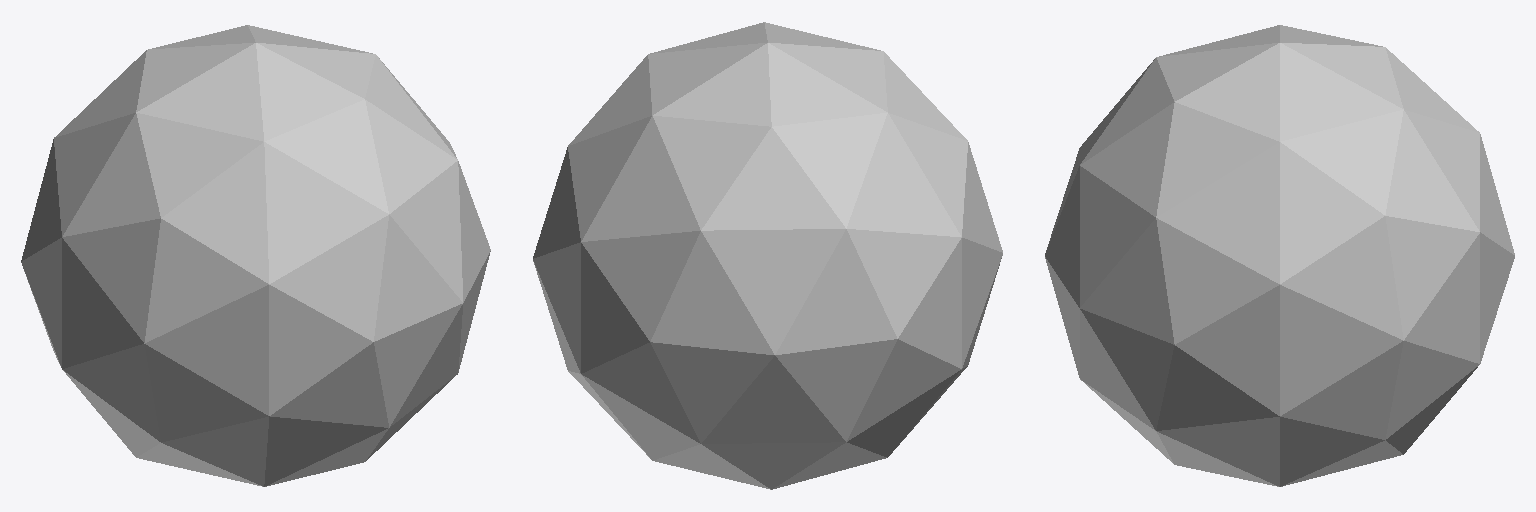
The model's file is amigapallo.obj.
The picture shows the model from 3 angles: view 1: azimuth 30°, elevation 25°; view 2: azimuth 150°, elevation 25°; view 3: azimuth 270°, elevation 25°; orthographic projection.
Visible parts, largest first — view 1: GeoSphere001; view 2: GeoSphere001; view 3: GeoSphere001.
Part boxes in pixels (bbox=[...]): GeoSphere001: bbox=[21, 25, 490, 486]; GeoSphere001: bbox=[533, 22, 1002, 489]; GeoSphere001: bbox=[1045, 25, 1514, 486].
Bounding box in the file's own units: 74.88 × 78.74 × 78.74.